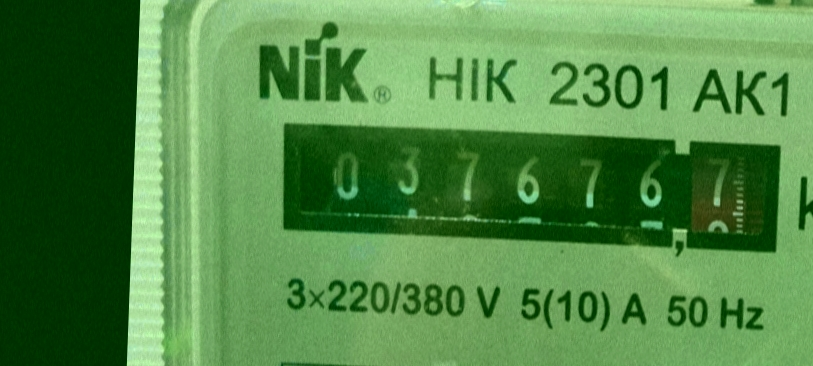0: (327, 145, 362, 202)
3: (390, 139, 420, 197)
6: (509, 149, 543, 204), (632, 153, 664, 209)
7: (570, 153, 604, 212), (448, 145, 481, 203), (700, 152, 730, 209)
screen: (261, 104, 795, 270)
